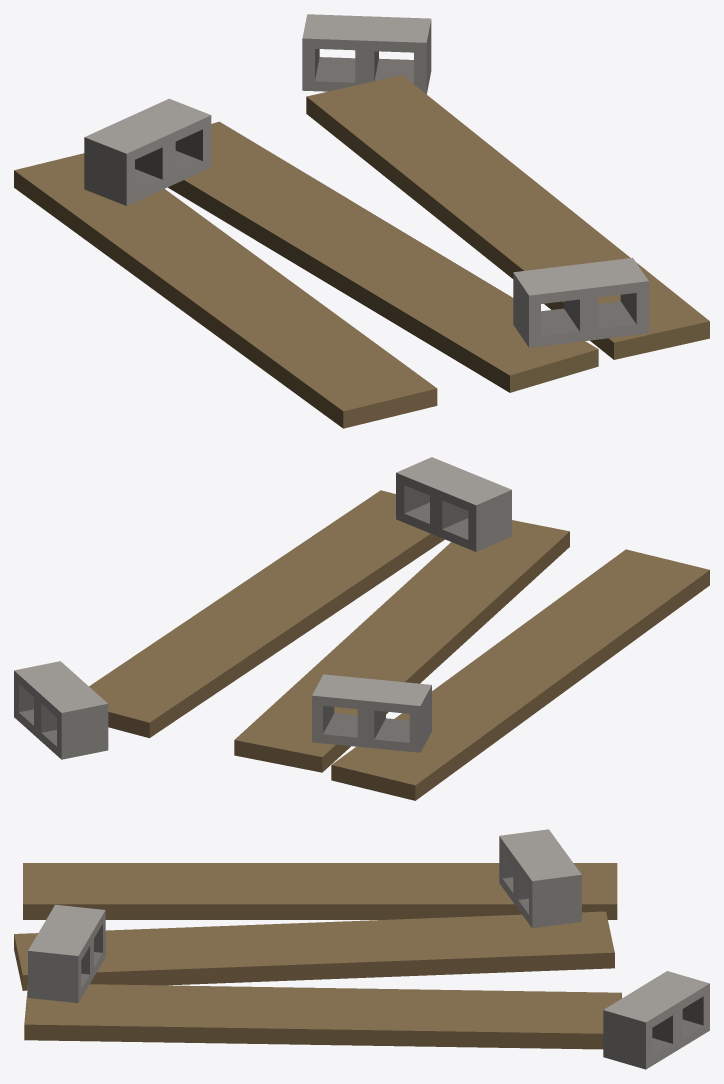
The model's file is AI_Env_Sewer_Bridge_01.fbx.
The picture shows the model from 3 angles, top to bottom: view 1: azimuth 30°, elevation 25°; view 2: azimuth 150°, elevation 25°; view 3: azimuth 270°, elevation 25°; orthographic projection. The views are drawn at different scales.
Parts seen in each view (by area): view 1: AI_Env_Sewer_Bridge_01; view 2: AI_Env_Sewer_Bridge_01; view 3: AI_Env_Sewer_Bridge_01.
Boxes of the visible parts, left/top/right/bottom form: AI_Env_Sewer_Bridge_01: left=14, top=14, right=709, bottom=428; AI_Env_Sewer_Bridge_01: left=14, top=457, right=709, bottom=800; AI_Env_Sewer_Bridge_01: left=14, top=829, right=709, bottom=1069.
Size of the model in its own units: 2.99 by 0.4675 by 4.62.
